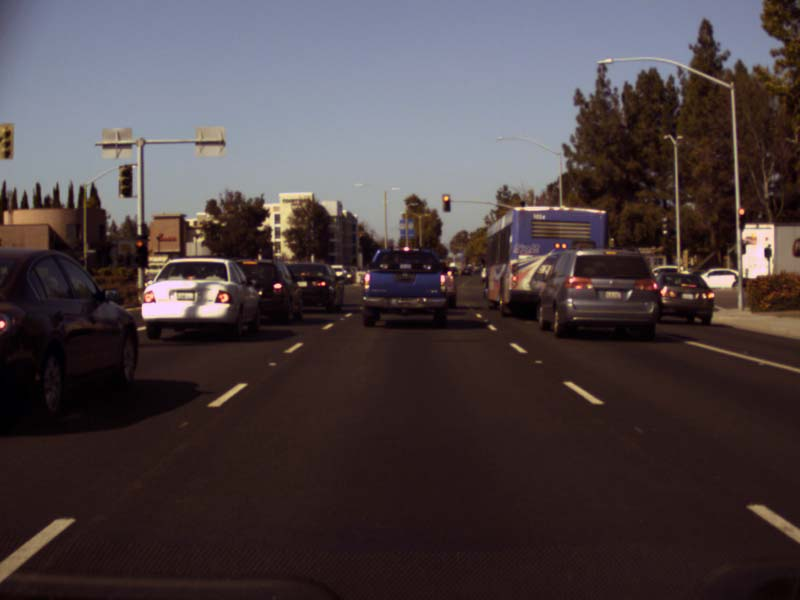Red: (135, 239, 148, 267), (738, 208, 746, 229), (441, 194, 450, 212)
